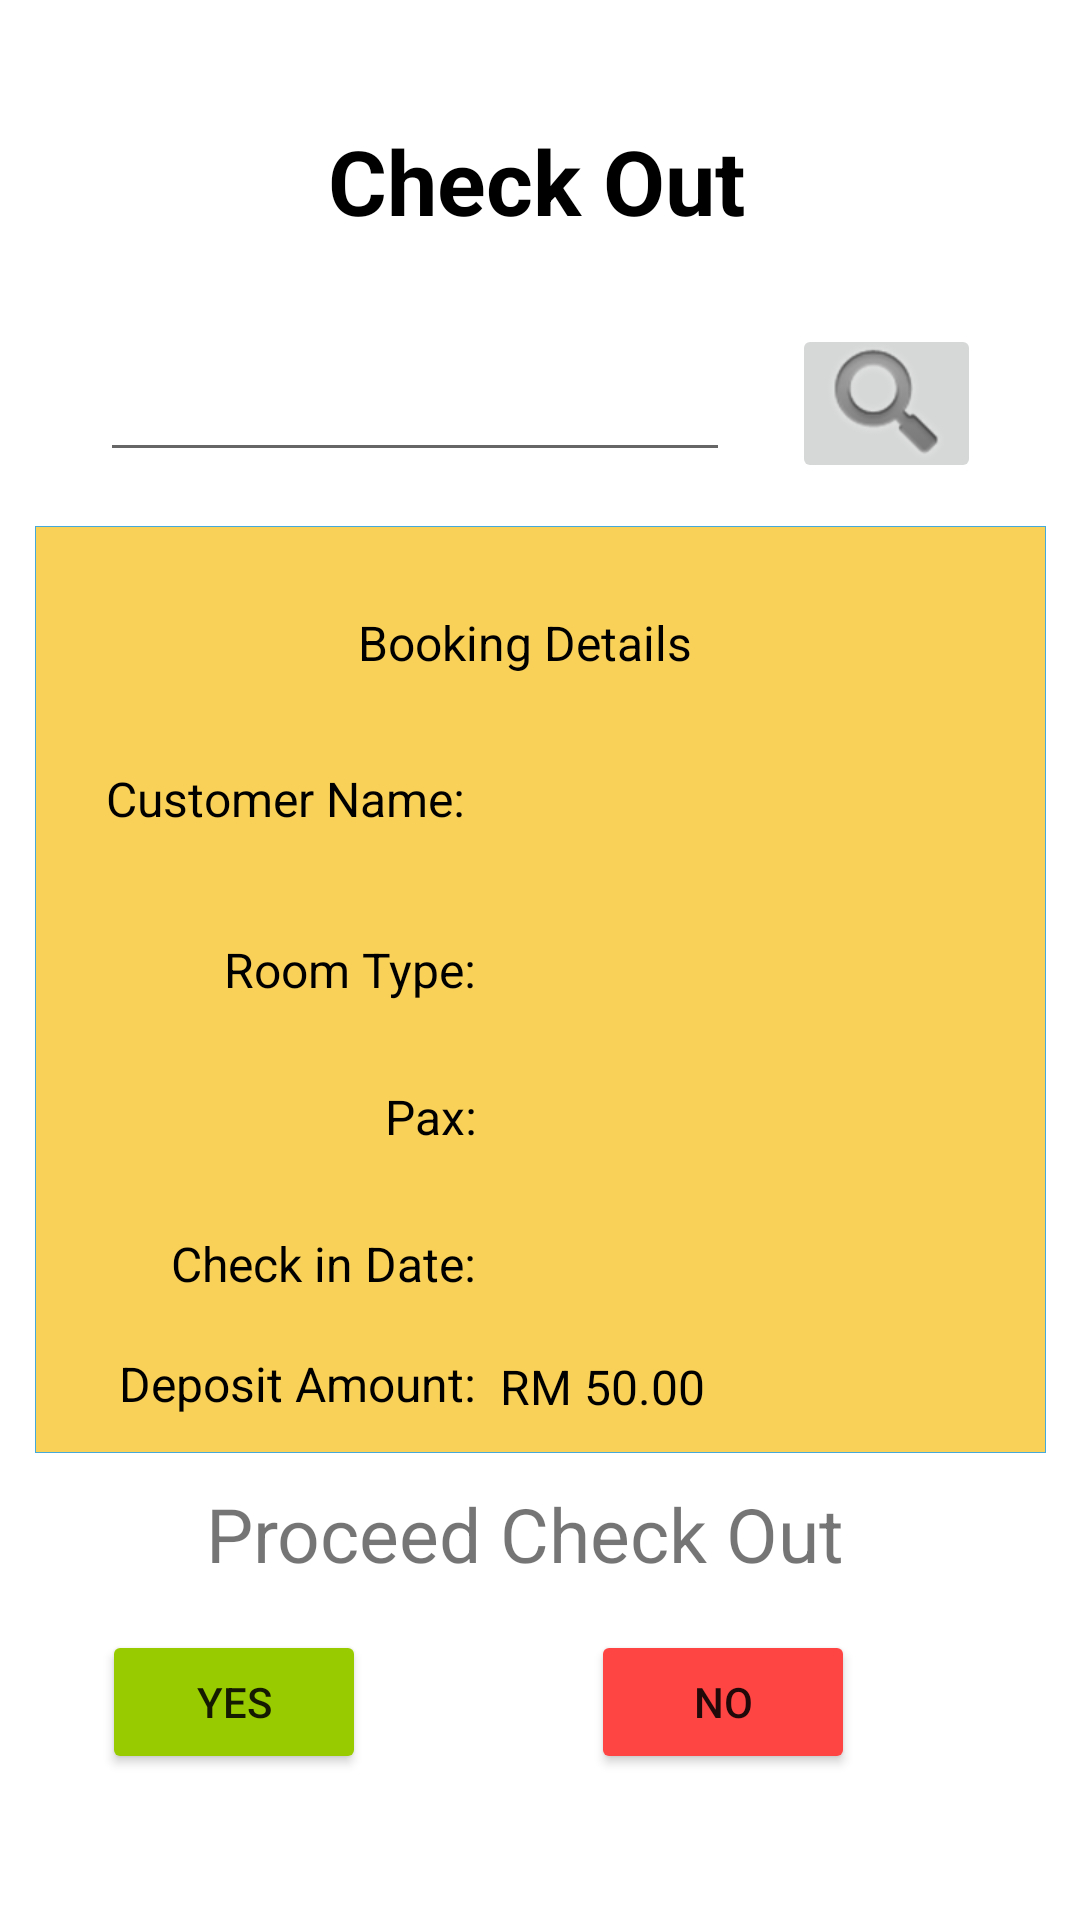

Where icons sit on this 1080x1920 app screen, as Rect(x1, y1, x2, y2):
search category: Rect(804, 342, 969, 465)
